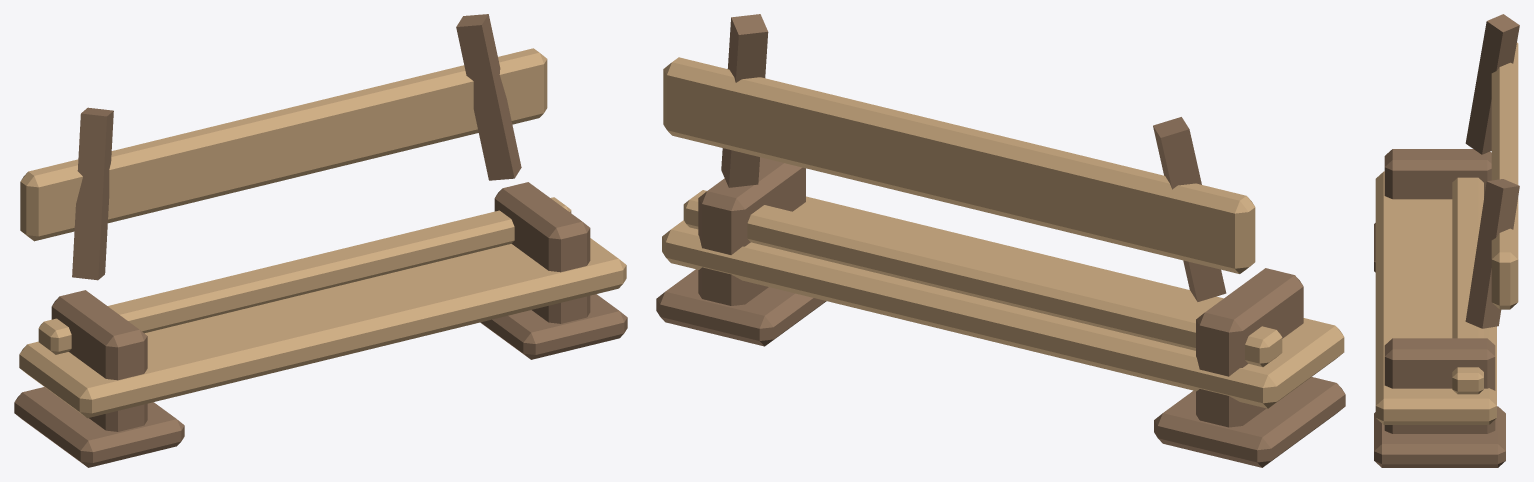
The model's file is town_bench.glb.
3 views of the same model, side by side, from view 1: azimuth 30°, elevation 25°; view 2: azimuth 150°, elevation 25°; view 3: azimuth 270°, elevation 25° (orthographic). The views are drawn at different scales.
Parts seen in each view (by area): view 1: town_bench_1, town_bench_0; view 2: town_bench_1, town_bench_0; view 3: town_bench_1, town_bench_0.
Boxes of the visible parts, x1,y1,x2,y2 form: town_bench_1: (19, 48, 626, 418); town_bench_0: (14, 14, 627, 467); town_bench_1: (662, 57, 1344, 408); town_bench_0: (656, 14, 1345, 467); town_bench_1: (1375, 42, 1518, 424); town_bench_0: (1374, 14, 1519, 467).
Bounding box in the file's own units: 2 × 1.01 × 0.5267.
